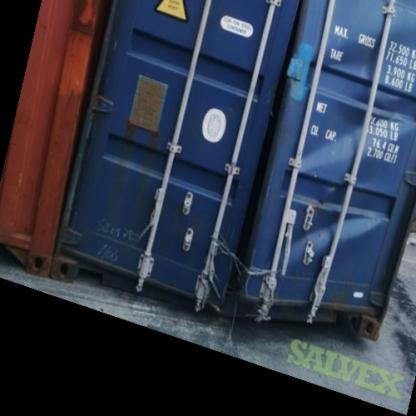Damage: (237, 63, 405, 314), (118, 109, 161, 164)
